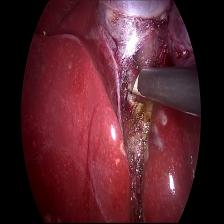Hook: (121, 61, 144, 103)
